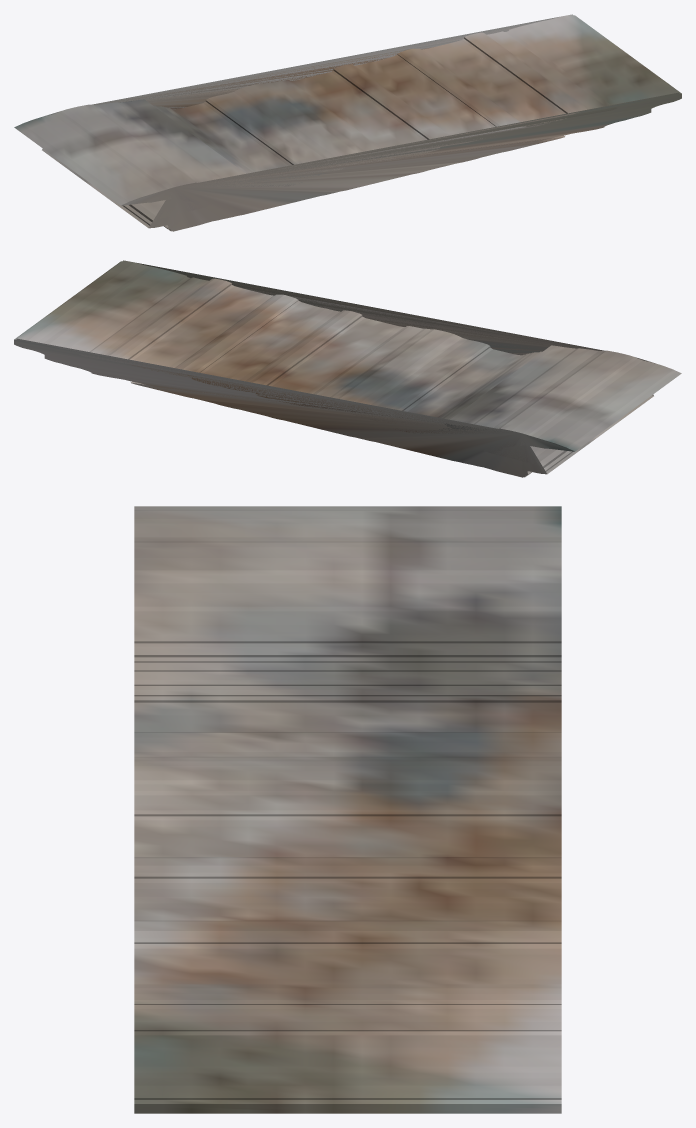
The picture shows the model from 3 angles, top to bottom: view 1: azimuth 30°, elevation 25°; view 2: azimuth 150°, elevation 25°; view 3: azimuth 270°, elevation 25°; orthographic projection. The views are drawn at different scales.
Visible parts, largest first — view 1: visual_mesh.obj; view 2: visual_mesh.obj; view 3: visual_mesh.obj.
Part boxes in pixels (box(x1,y1,x2,y2)): visual_mesh.obj: box(14, 14, 681, 231); visual_mesh.obj: box(14, 260, 681, 477); visual_mesh.obj: box(134, 506, 561, 1113).
Size of the model in its own units: 0.258 by 0.02 by 0.085.
